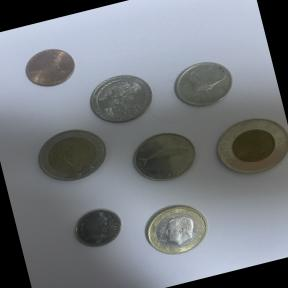1 Euro-B: (128, 189, 226, 270)
2 Euro-B: (26, 119, 115, 192)
Canada-10cent-B: (62, 196, 134, 260)
Canada-2Dollar-B: (203, 103, 288, 188)
Croatia-2Kune-B: (118, 120, 207, 192)
US-1cent-B: (10, 32, 90, 98)
US-25cent-B: (79, 64, 161, 132)
